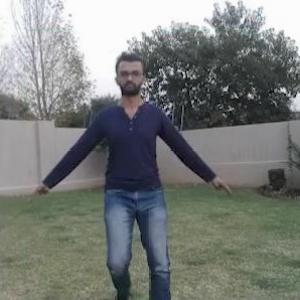land: (2, 34, 260, 299)
